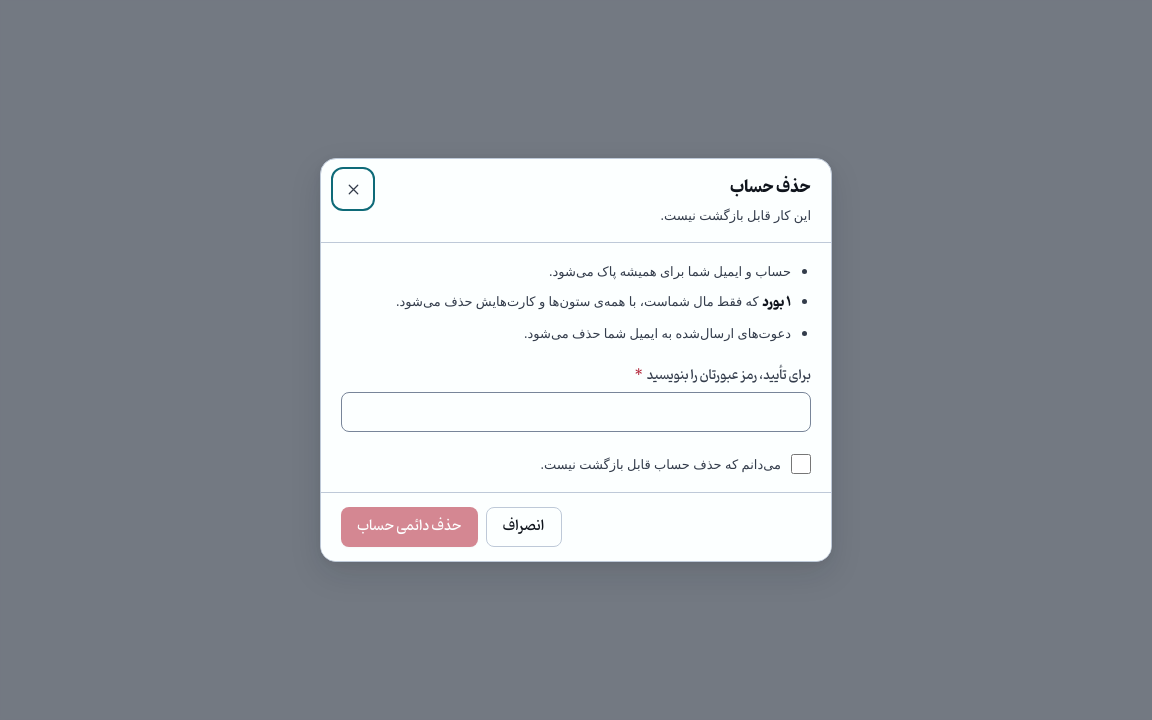
Scenario: DeleteAccountDialog › on a wrong password: announces it, clears the field, does not leave
The width and height of the screenshot is (1152, 720).
Check: the list item "حساب و ایمیل شما برای همیشه پاک می‌شود." is shown, box top-left (549, 262), bottom-right (791, 280)
Type "bad" into the password field labelled "برای تأیید، رمز عبورتان را بنویسید*" at x=576, y=412, box top-left (341, 392), bottom-right (811, 432)
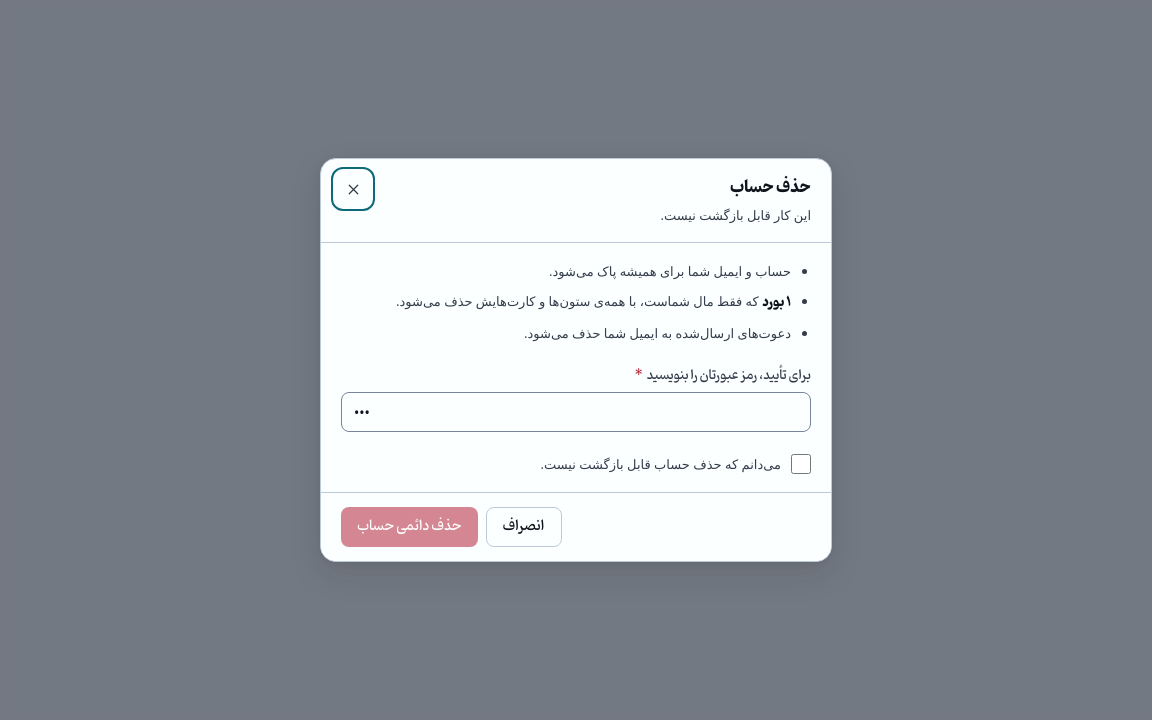
Click the checkbox labelled "می‌دانم که حذف حساب قابل بازگشت نیست." at x=801, y=464, box top-left (791, 454), bottom-right (811, 474)
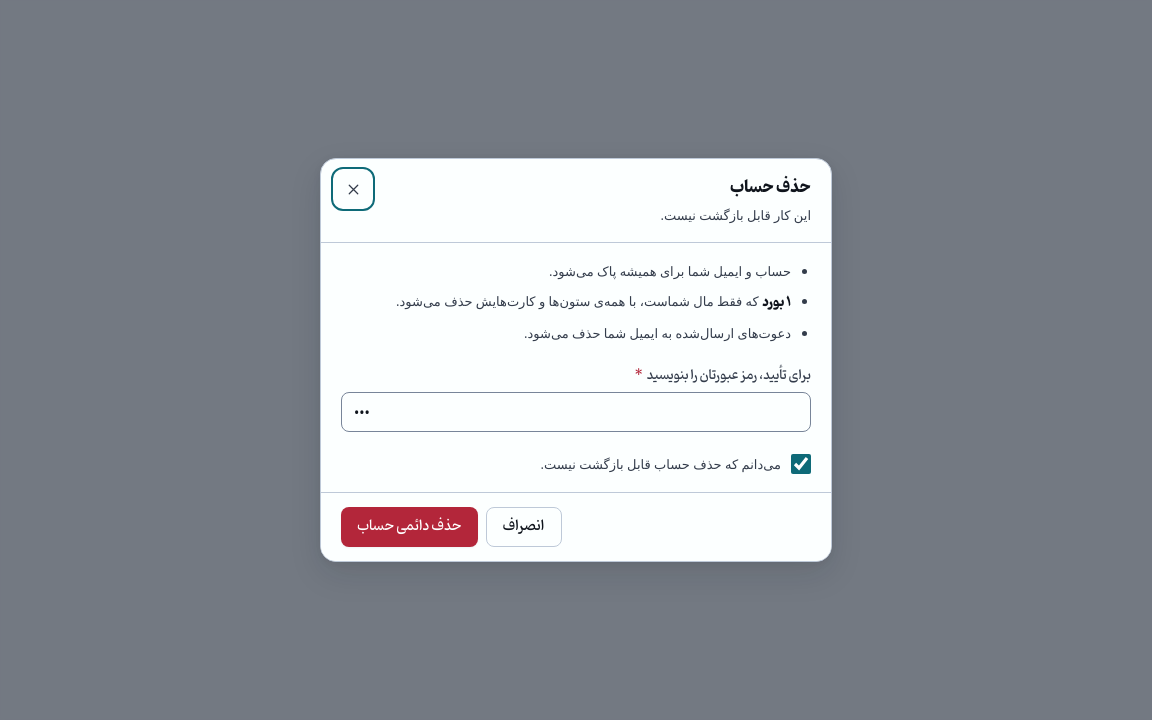
Click the button "حذف دائمی حساب" at x=409, y=527, box top-left (341, 507), bottom-right (478, 547)
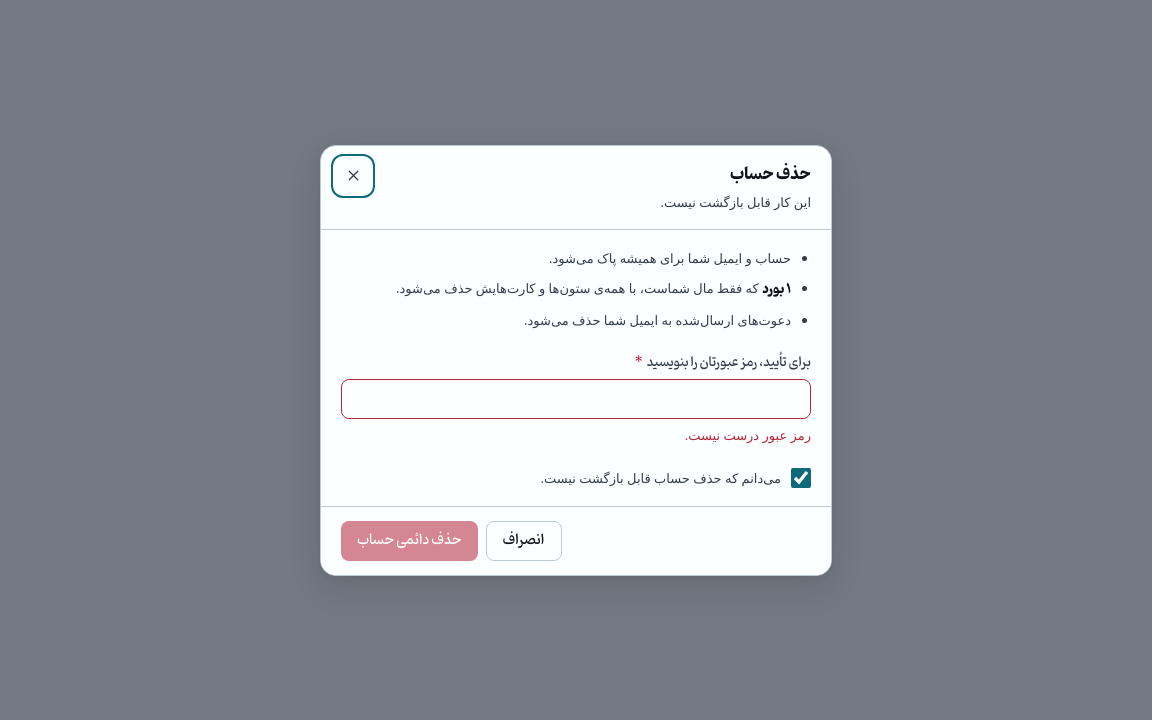
Check: the message reads "رمز عبور درست نیست.", box top-left (685, 426), bottom-right (811, 444)
Check: the password field labelled "برای تأیید، رمز عبورتان را بنویسید*" is empty, box top-left (341, 378), bottom-right (811, 418)
